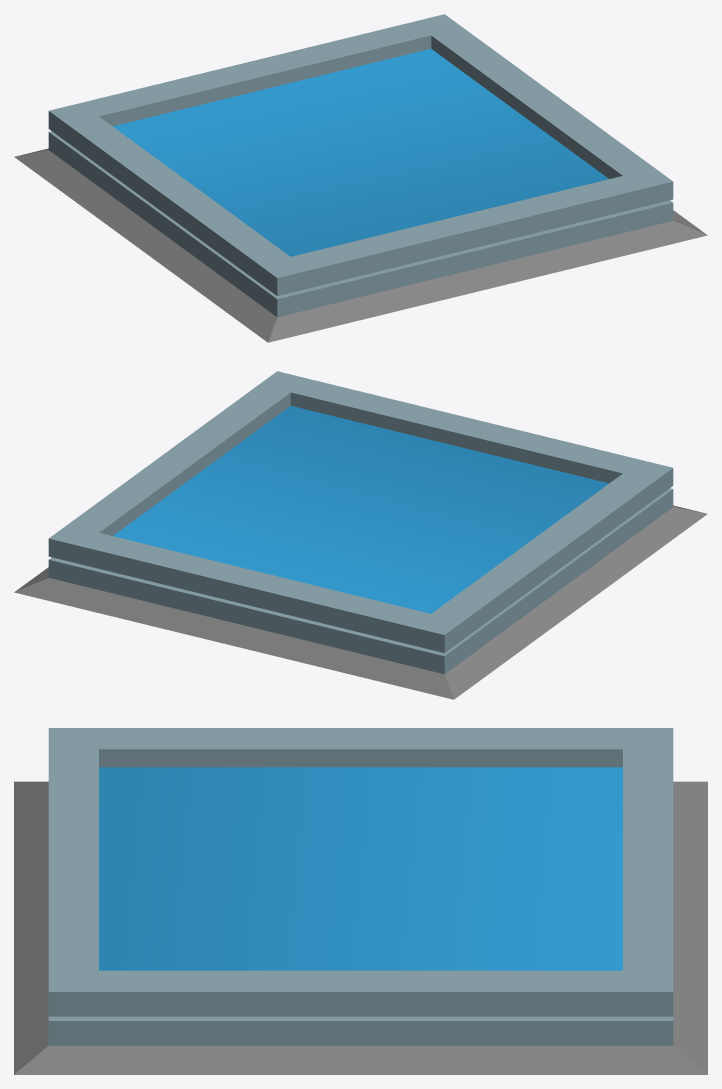
Rendered from RoofAcc_SkylightSmall.fbx.
The picture shows the model from 3 angles, top to bottom: view 1: azimuth 30°, elevation 25°; view 2: azimuth 150°, elevation 25°; view 3: azimuth 270°, elevation 25°; orthographic projection. The views are drawn at different scales.
Parts seen in each view (by area): view 1: RoofAcc_SkylightSmall; view 2: RoofAcc_SkylightSmall; view 3: RoofAcc_SkylightSmall.
Part boxes in pixels (x1,y1,x2,y2): RoofAcc_SkylightSmall: (14, 14, 707, 342); RoofAcc_SkylightSmall: (14, 371, 707, 699); RoofAcc_SkylightSmall: (14, 728, 707, 1074).
Bounding box in the file's own units: 59.85 × 6.5 × 59.85.
